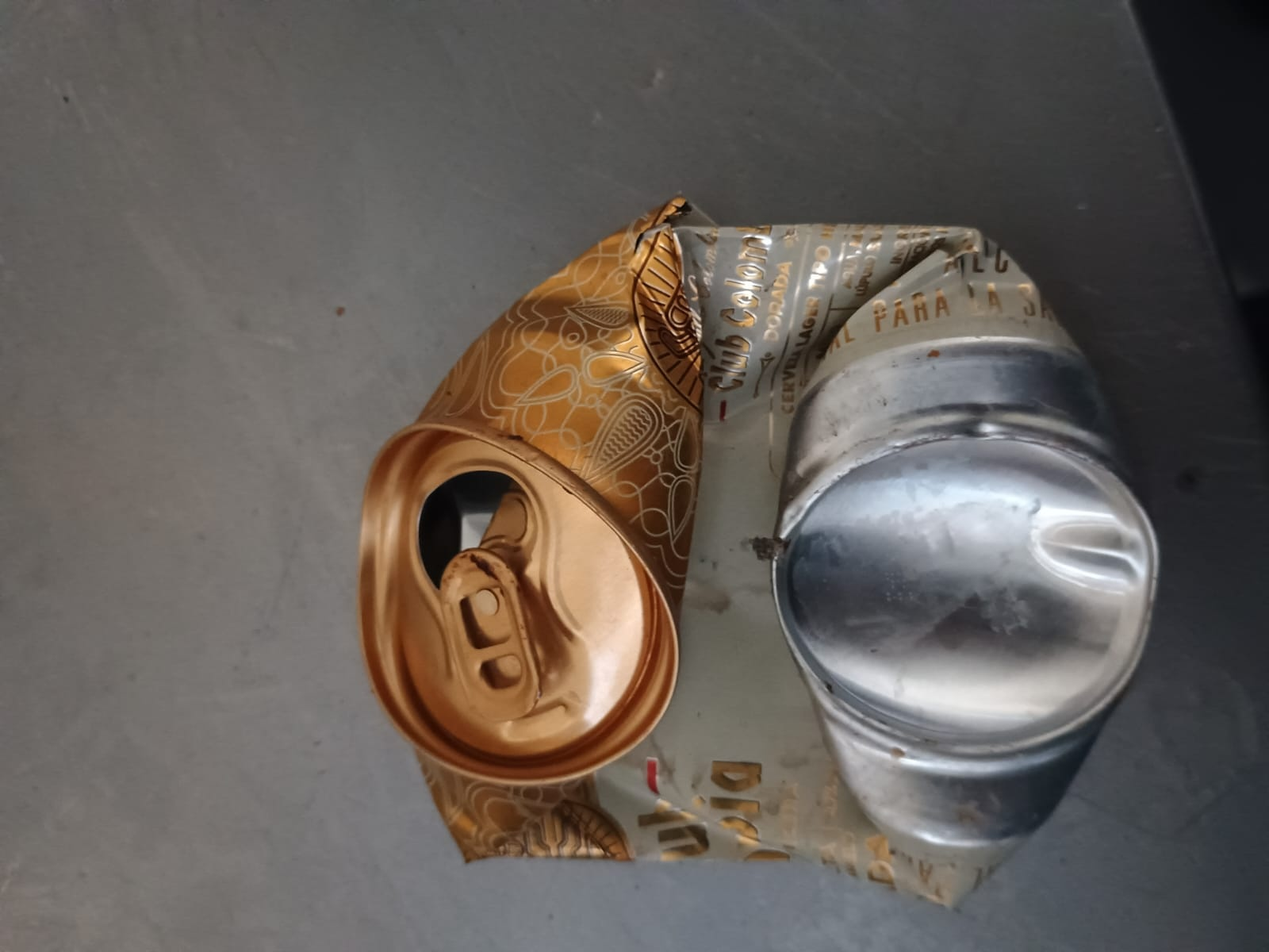Metal: (356, 226, 1159, 912)
